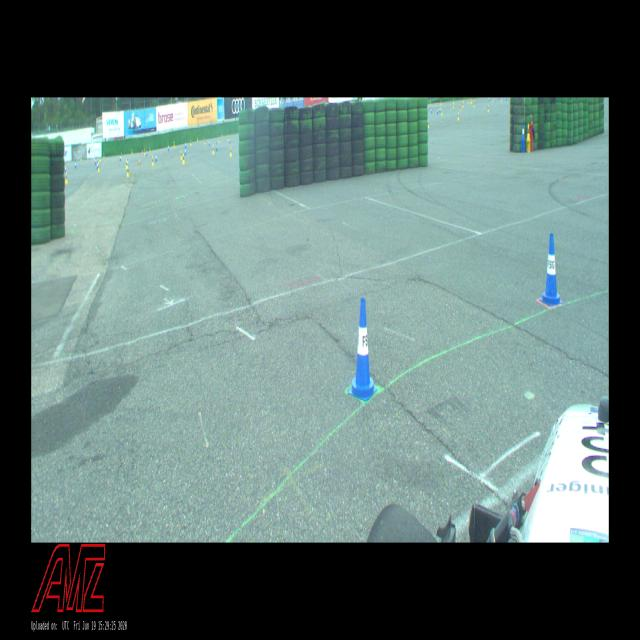blue_cone: (348, 297, 378, 401), (539, 233, 563, 306), (521, 123, 525, 140), (215, 143, 218, 151), (184, 147, 187, 155), (74, 161, 77, 168), (96, 160, 98, 170), (155, 153, 157, 162), (185, 141, 187, 148), (120, 154, 122, 161), (439, 106, 441, 113), (168, 145, 170, 151), (146, 150, 148, 156), (436, 109, 438, 114), (431, 108, 433, 113), (229, 138, 231, 143), (65, 164, 66, 173), (209, 140, 210, 146)
orange_cone: (138, 157, 140, 164)
yellow_cone: (526, 124, 530, 140), (126, 166, 130, 177), (65, 172, 68, 184), (182, 153, 185, 164), (180, 150, 183, 160), (212, 145, 215, 154), (173, 140, 176, 148), (230, 146, 232, 157), (126, 159, 128, 169), (98, 162, 100, 172), (152, 156, 154, 165), (487, 104, 489, 112), (458, 113, 460, 120), (218, 136, 220, 143), (441, 108, 443, 115), (462, 101, 464, 108), (190, 139, 192, 146), (452, 102, 454, 108), (227, 135, 229, 141), (204, 139, 206, 145), (131, 149, 133, 154), (428, 120, 429, 128), (460, 105, 461, 111), (221, 132, 222, 137)
